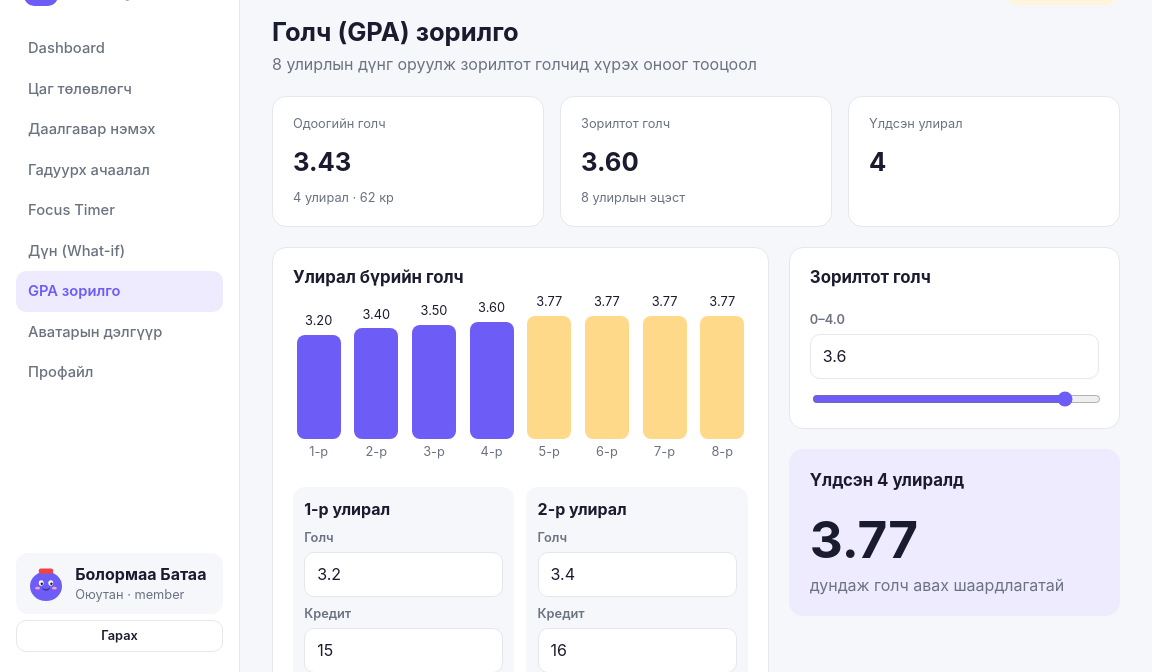
Test: grades & GPA › GPA: одоогийн голч ба зорилт
expect the text with test id "current-gpa" reads "3.43": met, box [293, 146, 351, 177]
Replace the text in the number field with test id "target" with "4": (954,357) [810, 334, 1099, 379]
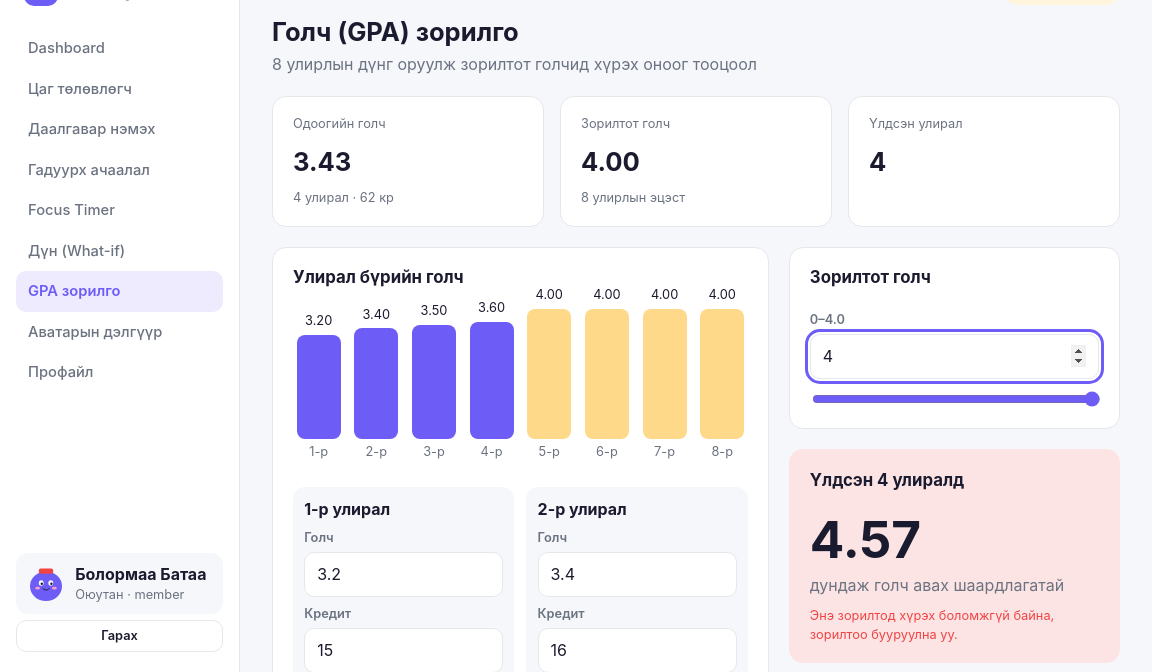
expect the message "Энэ зорилтод хүрэх боломжгүй байна, зорилтоо бууруулна уу." is shown: met, box [810, 608, 1054, 642]
Replace the text in the number field with test id "target" with "4.5": (954,357) [810, 334, 1099, 379]
(page scrolled)
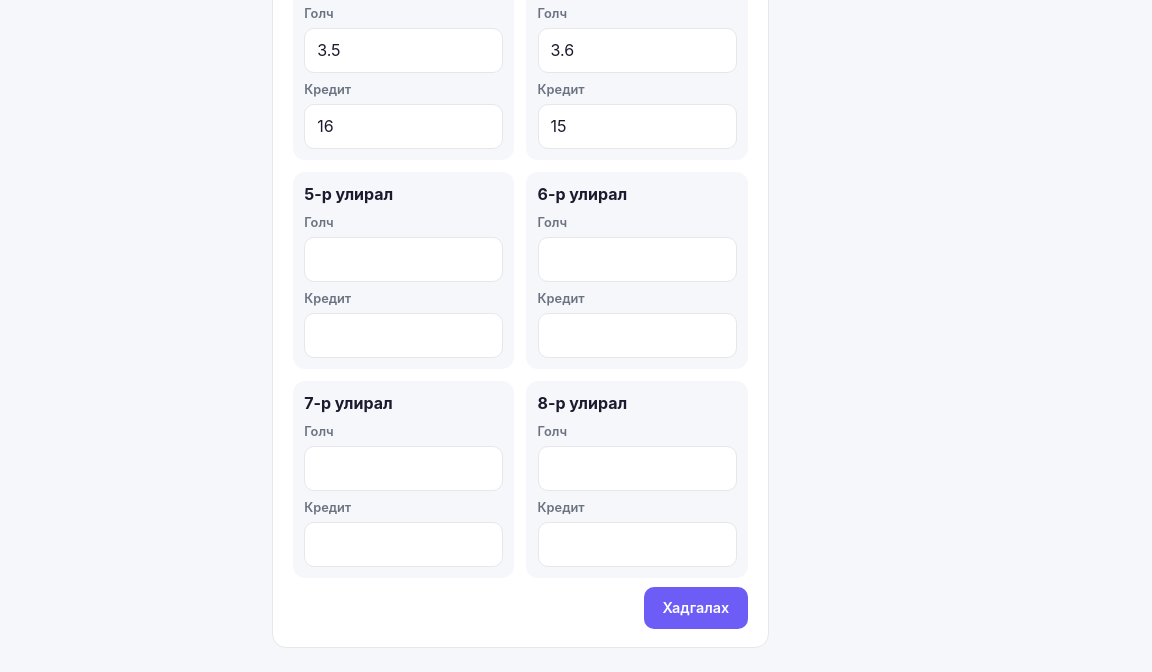
Click the button with test id "save-gpa": (696,608) [644, 587, 748, 629]
(page scrolled)
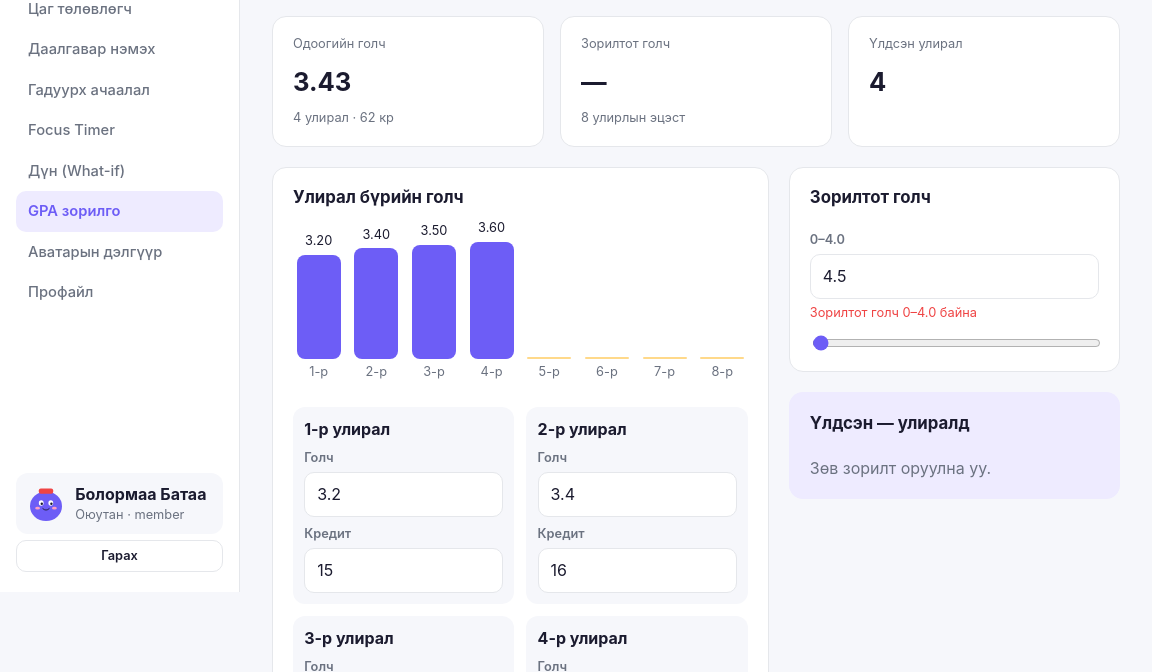
expect the message "Зорилтот голч 0–4.0 байна" is shown: met, box [810, 305, 977, 320]
